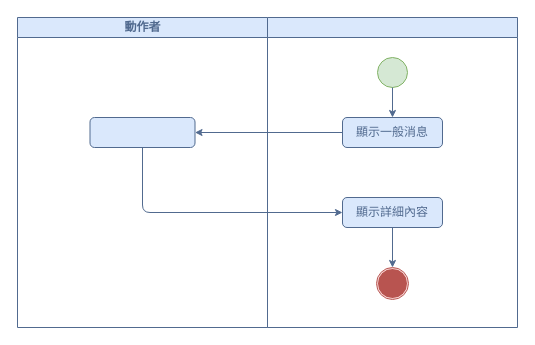
Image size: 535x345. Some labels were removed from this diagram. Here are the shapes that lost their labels. From the top down, the box of each, then its label:
(89, 116, 195, 148): 點選任一條目
(266, 16, 518, 328): 系統
